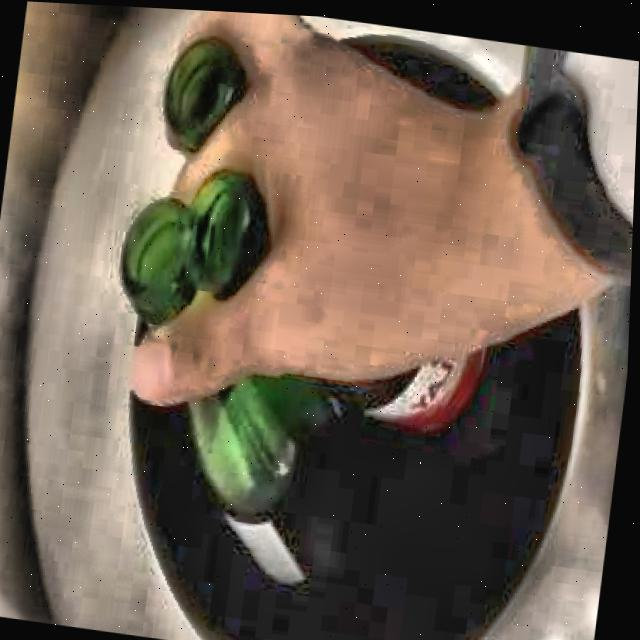glass: (193, 345, 486, 520), (123, 163, 272, 322), (165, 32, 248, 154)
